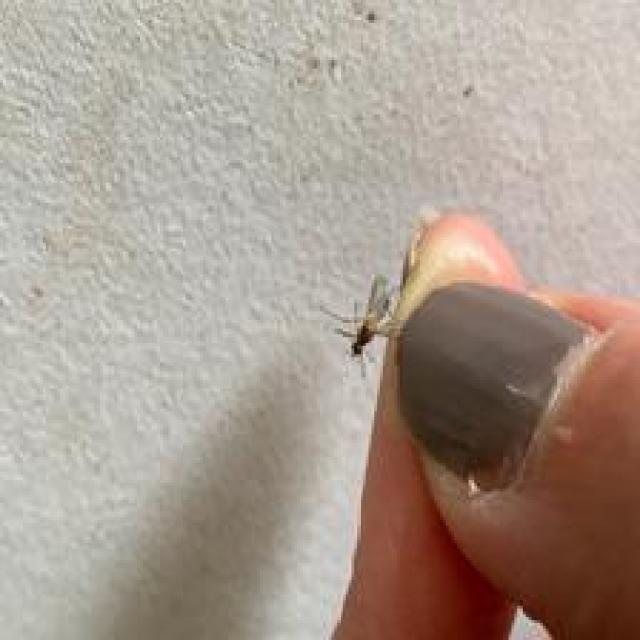Culex: (323, 204, 640, 639)
